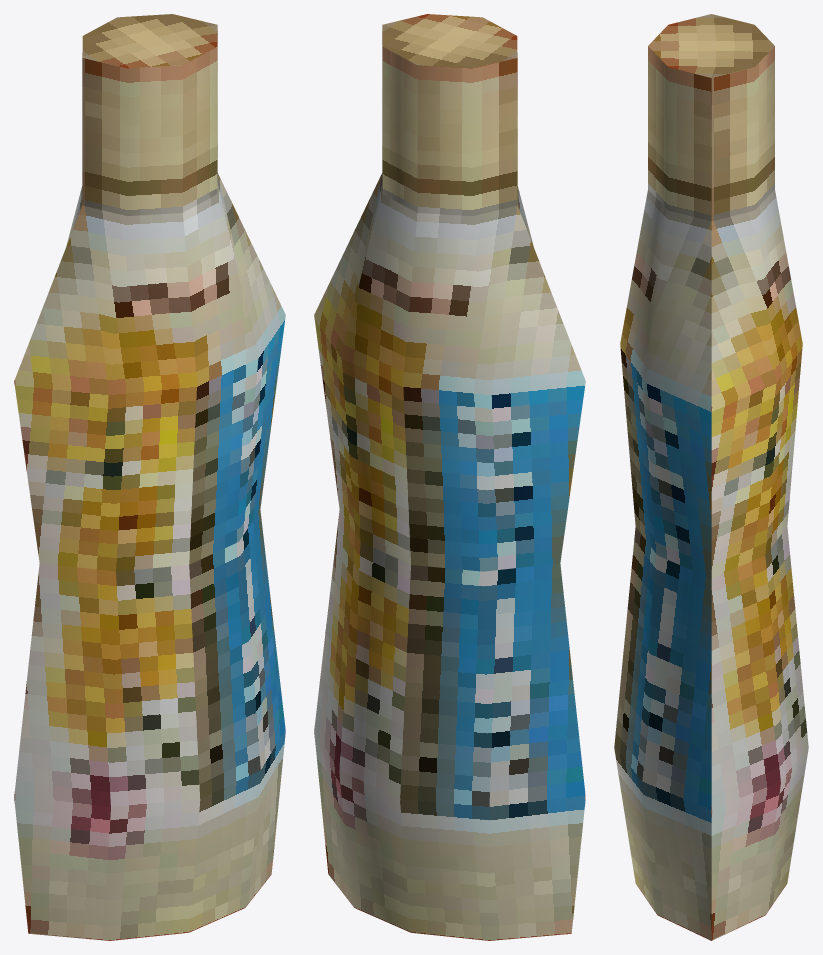
The model's file is Bottle005.glb.
3 renders of one model, left to right at view 1: azimuth 30°, elevation 25°; view 2: azimuth 150°, elevation 25°; view 3: azimuth 270°, elevation 25°, orthographic. The views are drawn at different scales.
Parts seen in each view (by area): view 1: bottle.005; view 2: bottle.005; view 3: bottle.005.
Part boxes in pixels (left/top/right/bottom): bottle.005: left=14, top=14, right=285, bottom=940; bottle.005: left=314, top=14, right=585, bottom=940; bottle.005: left=614, top=14, right=808, bottom=940.
Bounding box in the file's own units: 0.0443 × 0.1345 × 0.0283.
Materials: 1 (1 with a texture image).
